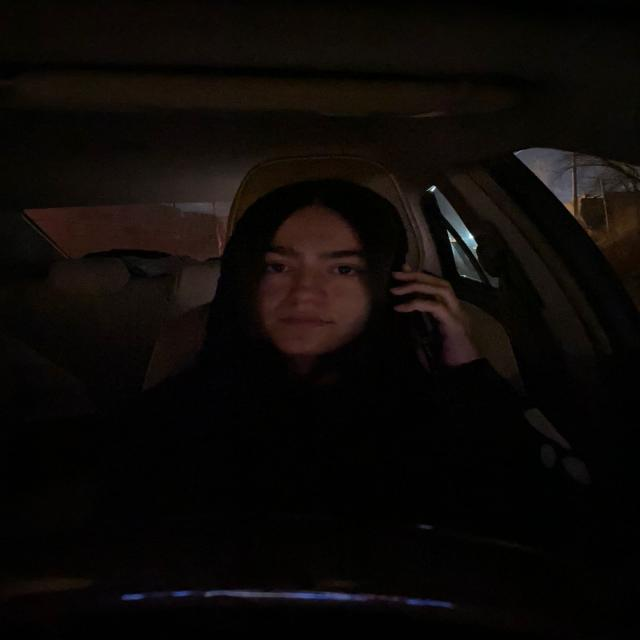person: (226, 173, 410, 370)
